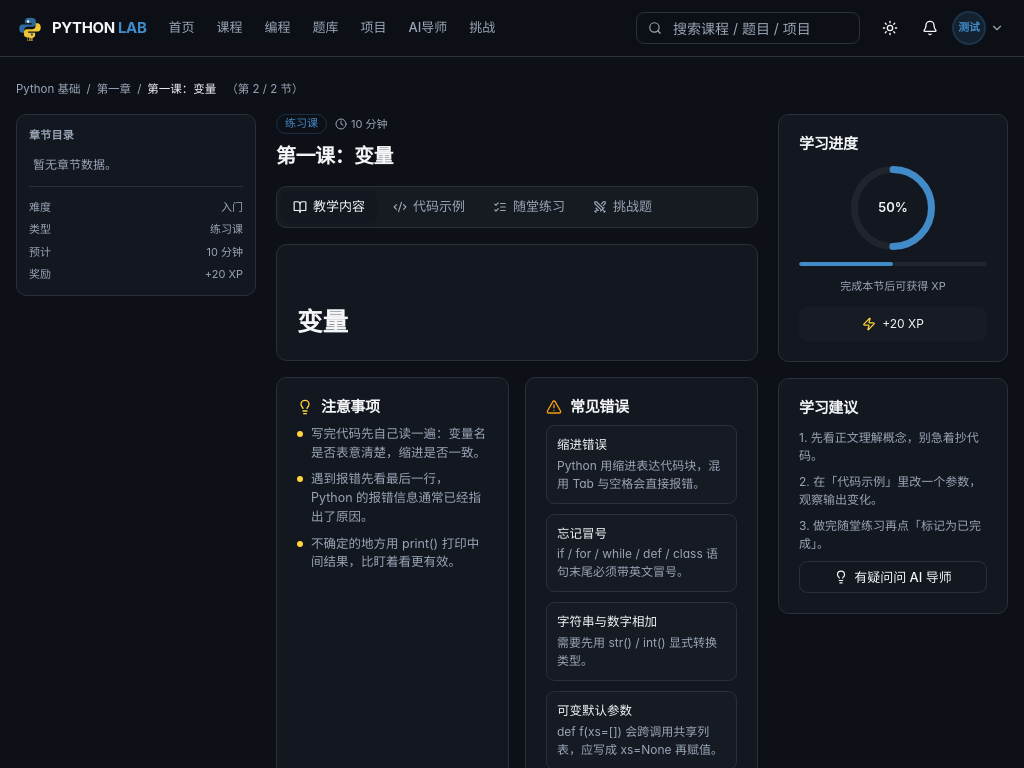
Test case: lesson-view · 随堂练习 radio 组 a11y（安全红线） › ★ radio 组有 role=radiogroup，且可访问名称能取到（非空、等于题干）
Click the tab "随堂练习" at coordinates (529, 207), box [481, 191, 577, 222]
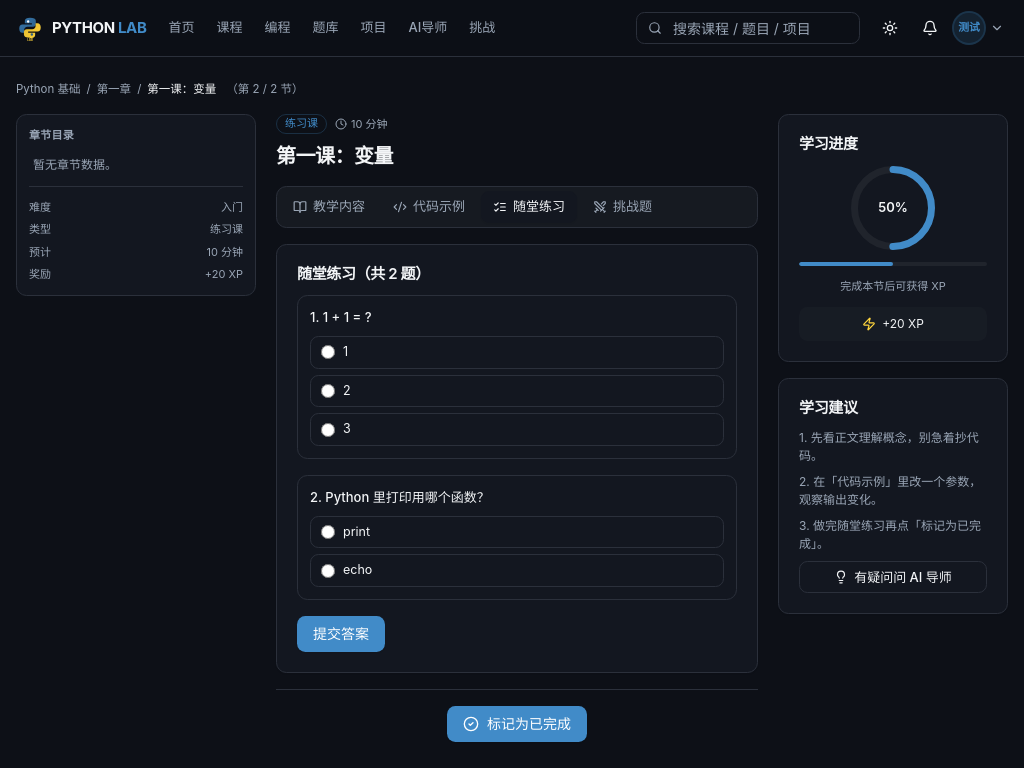
Result: the radio button labelled "1" is shown at [321, 345, 335, 359]
Result: the text "1. 1 + 1 = ?" is shown at [310, 309, 372, 325]
